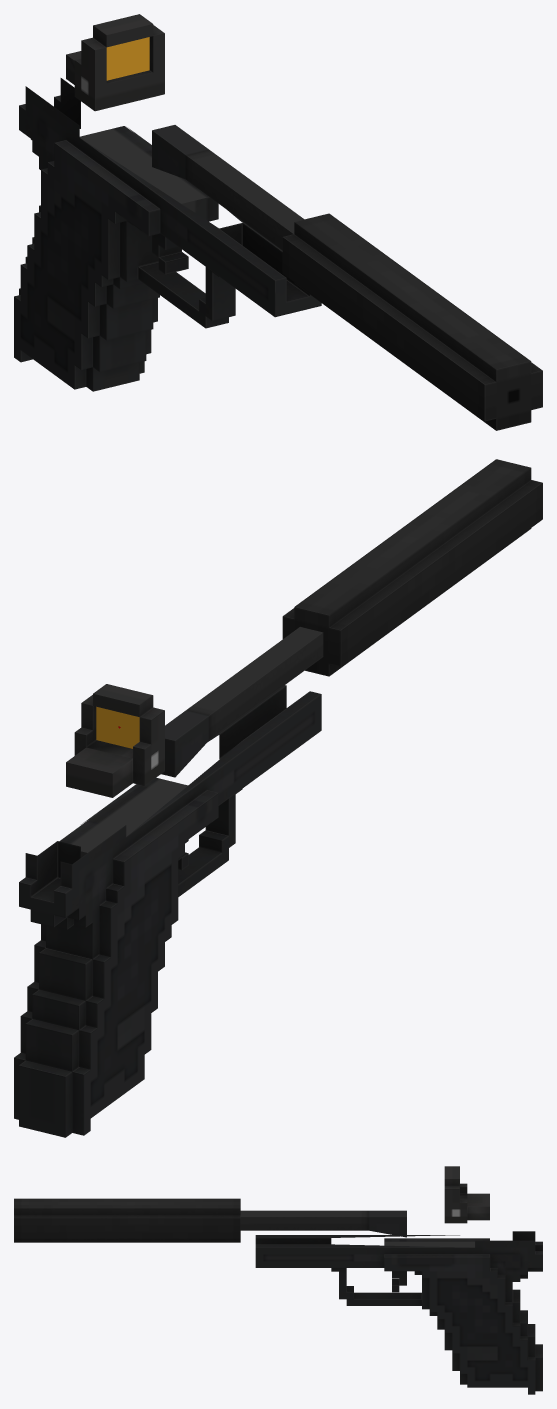
File: RD_USP.glb
The picture shows the model from 3 angles, top to bottom: view 1: azimuth 30°, elevation 25°; view 2: azimuth 150°, elevation 25°; view 3: azimuth 270°, elevation 25°; orthographic projection. The views are drawn at different scales.
Visible parts, largest first — view 1: USP, SILENCER_5X5, SCOPE_TRIJICON; view 2: USP, SILENCER_5X5, SCOPE_TRIJICON; view 3: USP, SILENCER_5X5, SCOPE_TRIJICON.
Boxes of the visible parts, x1,y1,x2,y2 form: USP: (14,78,321,391); SILENCER_5X5: (282,213,542,430); SCOPE_TRIJICON: (66,14,164,111); USP: (14,627,323,1137); SILENCER_5X5: (282,459,542,676); SCOPE_TRIJICON: (66,684,164,797); USP: (240,1210,542,1394); SILENCER_5X5: (14,1198,240,1242); SCOPE_TRIJICON: (444,1166,489,1223).
Size of what is drawn, in the model's own units: 0.0591 by 0.3051 by 0.689.
Materials: 4 (4 with a texture image).
